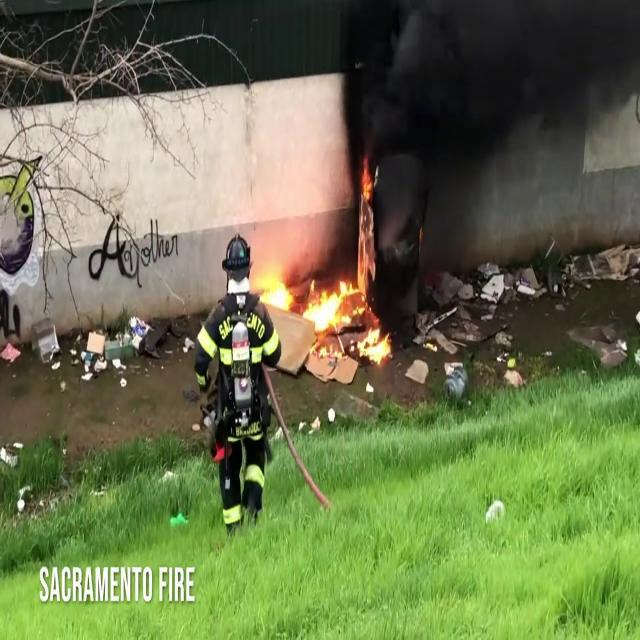Fire: (248, 258, 390, 362)
Smoke: (319, 0, 640, 269)
